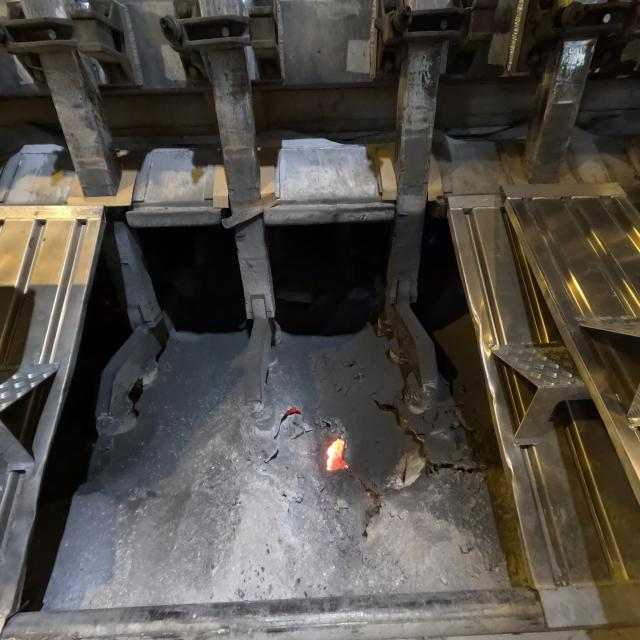Blackspot: (395, 453, 426, 488), (431, 460, 478, 478), (404, 425, 426, 447), (379, 402, 403, 420)
Redspot: (286, 406, 301, 415)
